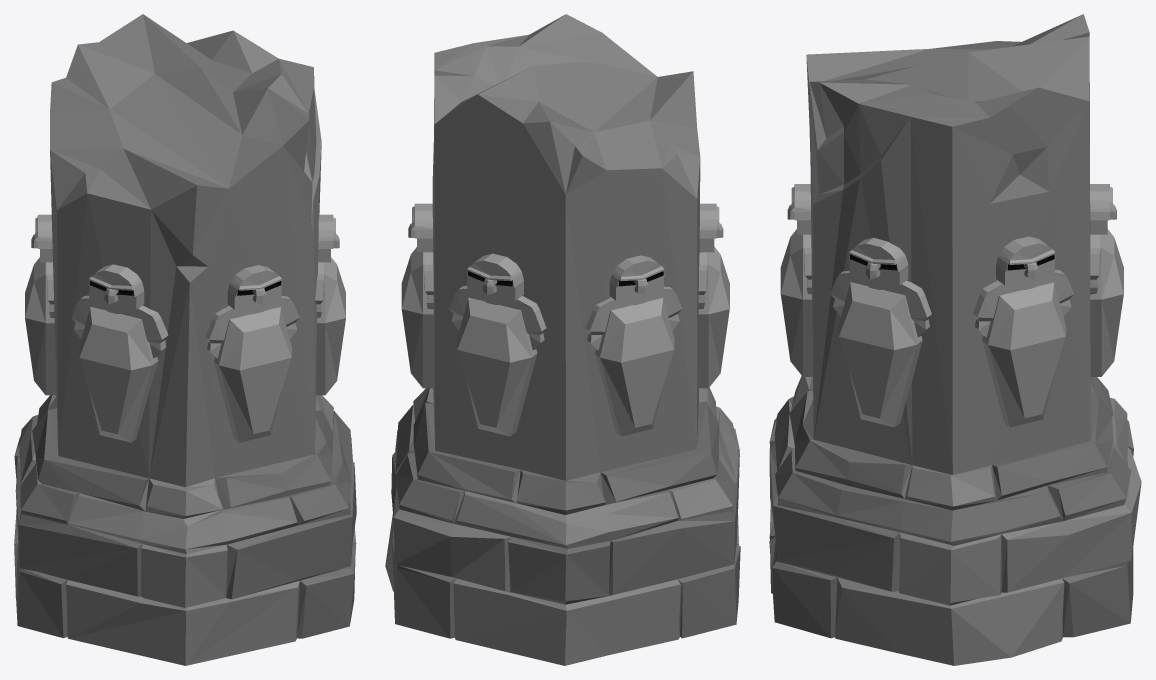
File: _ruin_5.glb
3 renders of one model, left to right at view 1: azimuth 30°, elevation 25°; view 2: azimuth 150°, elevation 25°; view 3: azimuth 270°, elevation 25°, orthographic. The views are drawn at different scales.
Visible parts, largest first — view 1: ruin_5; view 2: ruin_5; view 3: ruin_5.
Part boxes in pixels (x1=…): ruin_5: x1=14, y1=14, x2=356, y2=665; ruin_5: x1=385, y1=14, x2=740, y2=665; ruin_5: x1=769, y1=14, x2=1141, y2=665.
Size of the model in its own units: 2.86 by 4.25 by 2.59.
Materials: 1 (1 with a texture image).
